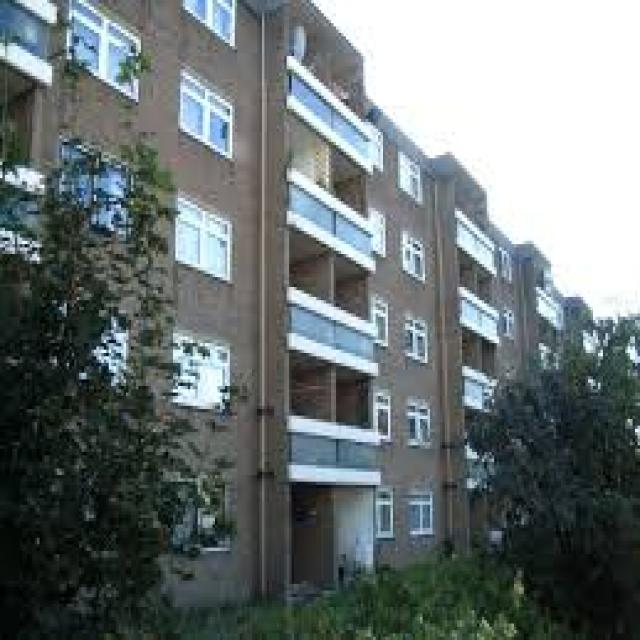window: (69, 3, 141, 92), (170, 194, 230, 280), (180, 63, 238, 148), (173, 330, 232, 412), (405, 482, 440, 544), (403, 396, 432, 452), (400, 231, 428, 284), (398, 152, 425, 204), (406, 317, 428, 356)
